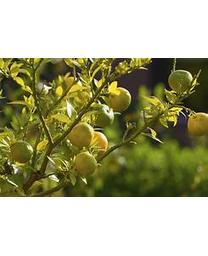lemon: (69, 122, 93, 145), (108, 88, 131, 112), (11, 140, 32, 163), (168, 71, 193, 90), (74, 154, 96, 175), (93, 104, 114, 126), (187, 113, 207, 136)
